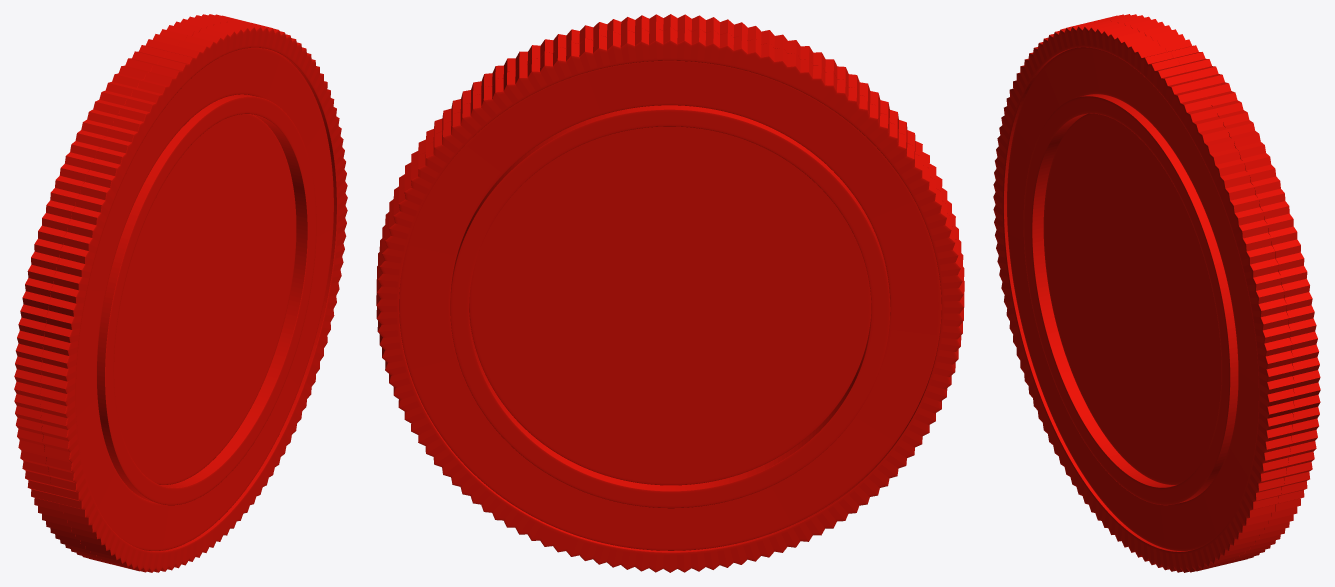
Rendered from red_coin.fbx.
3 renders of one model, left to right at view 1: azimuth 30°, elevation 25°; view 2: azimuth 150°, elevation 25°; view 3: azimuth 270°, elevation 25°, orthographic. The views are drawn at different scales.
Visible parts, largest first — view 1: Cylinder; view 2: Cylinder; view 3: Cylinder.
Boxes of the visible parts, left/top/right/bottom form: Cylinder: left=14, top=14, right=347, bottom=572; Cylinder: left=376, top=14, right=964, bottom=572; Cylinder: left=993, top=14, right=1320, bottom=572.
Bounding box in the file's own units: 184 × 200 × 117.
